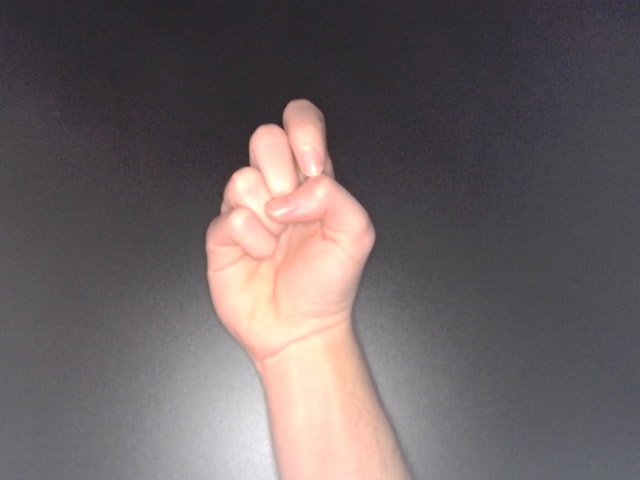s: (199, 95, 381, 378)
